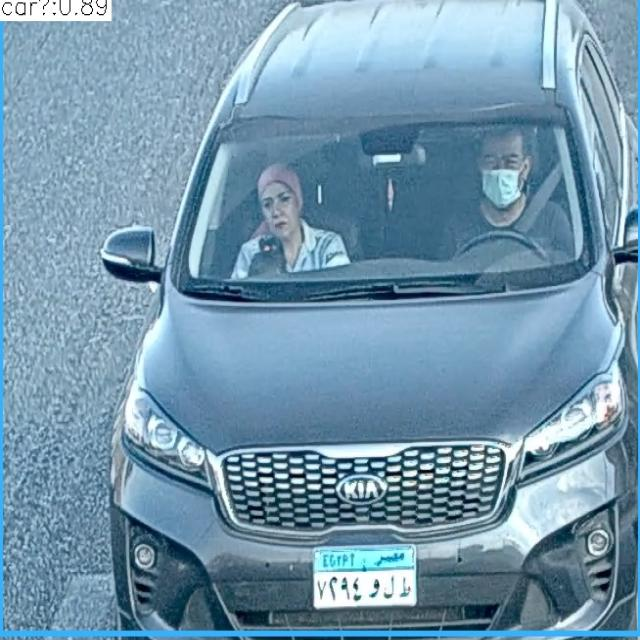windshield: (175, 118, 595, 274)
